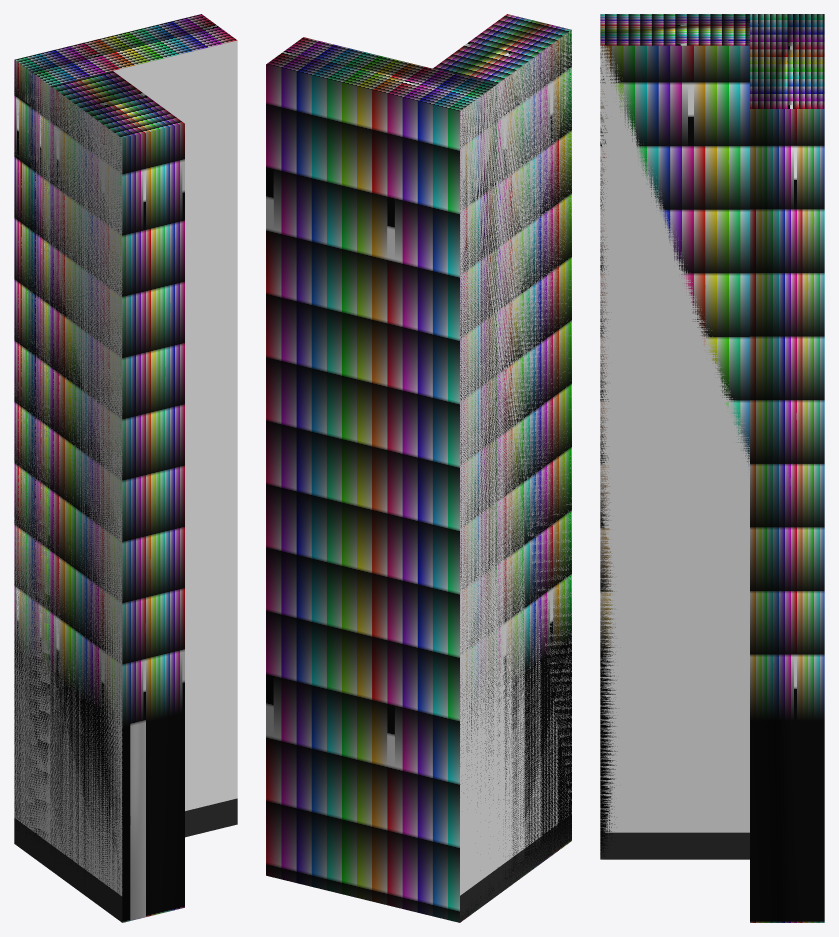
Rendered from interiorWall_corner_half_white.fbx.
3 renders of one model, left to right at view 1: azimuth 30°, elevation 25°; view 2: azimuth 150°, elevation 25°; view 3: azimuth 270°, elevation 25°, orthographic. The views are drawn at different scales.
Parts seen in each view (by area): view 1: interiorWall_corner_half_white, interiorWall_corner_half_trigger_1_white, interiorWall_corner_half_trigger_2_white; view 2: interiorWall_corner_half_trigger_2_white, interiorWall_corner_half_white, interiorWall_corner_half_trigger_1_white; view 3: interiorWall_corner_half_white, interiorWall_corner_half_trigger_2_white, interiorWall_corner_half_trigger_1_white.
Boxes of the visible parts, box(x1,y1,x2,y2) form: interiorWall_corner_half_white: box(14, 40, 237, 922); interiorWall_corner_half_trigger_1_white: box(50, 71, 184, 922); interiorWall_corner_half_trigger_2_white: box(14, 14, 237, 851); interiorWall_corner_half_trigger_2_white: box(266, 37, 497, 922); interiorWall_corner_half_white: box(460, 31, 571, 922); interiorWall_corner_half_trigger_1_white: box(433, 14, 571, 887); interiorWall_corner_half_white: box(600, 45, 749, 859); interiorWall_corner_half_trigger_2_white: box(750, 14, 824, 922); interiorWall_corner_half_trigger_1_white: box(600, 14, 749, 859).
Size of what is drawn, in the model's own units: 75 by 300 by 75.
